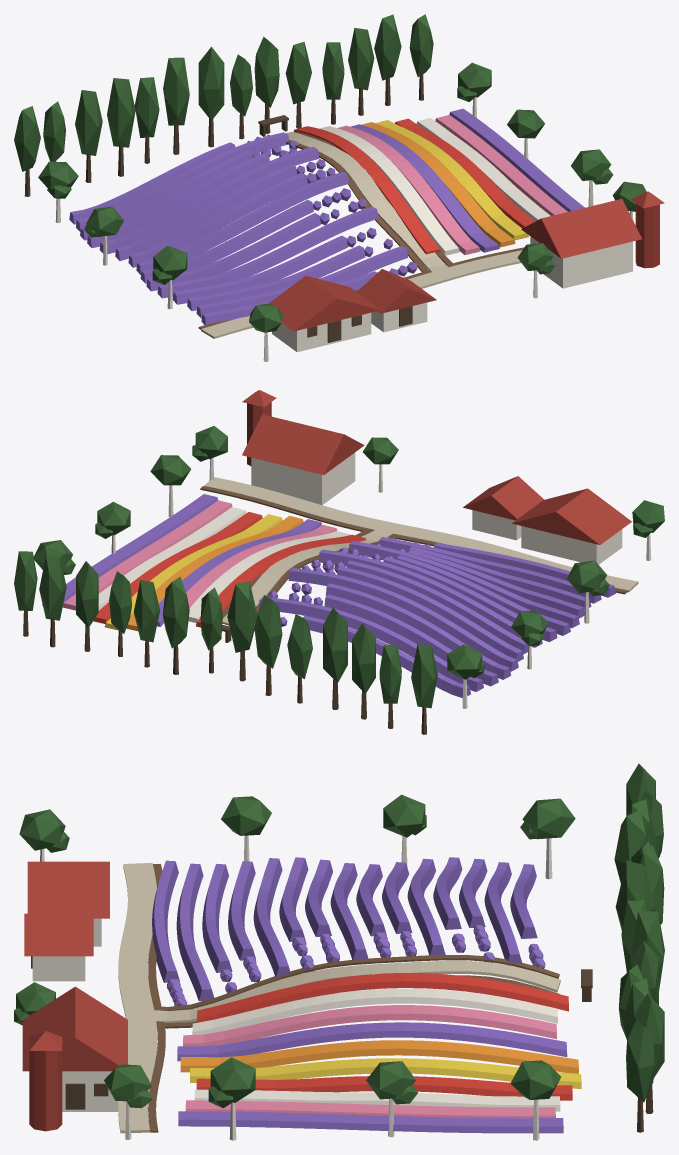
The model's file is furano.glb.
3 views of the same model, one above another, from view 1: azimuth 30°, elevation 25°; view 2: azimuth 150°, elevation 25°; view 3: azimuth 270°, elevation 25° (orthographic). The views are drawn at different scales.
Parts seen in each view (by area): view 1: furano_lavender, furano_leaf, furano_roof, furano_cream, furano_gravel, furano_pink, furano_poppy, furano_bark, furano_orange, furano_yellow, furano_soil; view 2: furano_lavender, furano_leaf, furano_roof, furano_cream, furano_gravel, furano_pink, furano_poppy, furano_bark, furano_soil, furano_orange, furano_yellow; view 3: furano_lavender, furano_leaf, furano_roof, furano_cream, furano_gravel, furano_pink, furano_poppy, furano_orange, furano_soil, furano_yellow, furano_bark.
Part boxes in pixels (box(x1,y1,x2,y2)): furano_lavender: box(69, 108, 584, 324); furano_leaf: box(14, 14, 646, 332); furano_roof: box(268, 191, 664, 331); furano_cream: box(55, 97, 633, 361); furano_gravel: box(201, 131, 522, 338); furano_pink: box(337, 115, 567, 254); furano_poppy: box(294, 118, 535, 254); furano_bark: box(24, 74, 423, 342); furano_orange: box(361, 122, 515, 247); furano_yellow: box(375, 120, 528, 240); furano_soil: box(198, 132, 524, 329); furano_lavender: box(42, 494, 615, 697); furano_leaf: box(14, 426, 664, 708); furano_roof: box(242, 390, 631, 544); furano_cream: box(98, 452, 651, 708); furano_gravel: box(204, 477, 638, 625); furano_pink: box(62, 500, 337, 610); furano_poppy: box(93, 512, 365, 627); furano_bark: box(23, 610, 426, 734); furano_soil: box(200, 486, 627, 618); furano_orange: box(126, 515, 303, 631); furano_yellow: box(104, 514, 282, 630); furano_lavender: box(152, 857, 567, 1133); furano_leaf: box(14, 763, 664, 1108); furano_roof: box(22, 861, 127, 1131); furano_cream: box(32, 835, 560, 1140); furano_gravel: box(118, 863, 560, 1133); furano_pink: box(183, 1005, 556, 1118); furano_poppy: box(196, 972, 572, 1100); furano_orange: box(180, 1040, 578, 1073); furano_soil: box(148, 864, 559, 1132); furano_yellow: box(190, 1058, 581, 1089); furano_bark: box(31, 956, 653, 1132).
Bounding box in the file's own units: 20.65 × 4.52 × 19.79.
